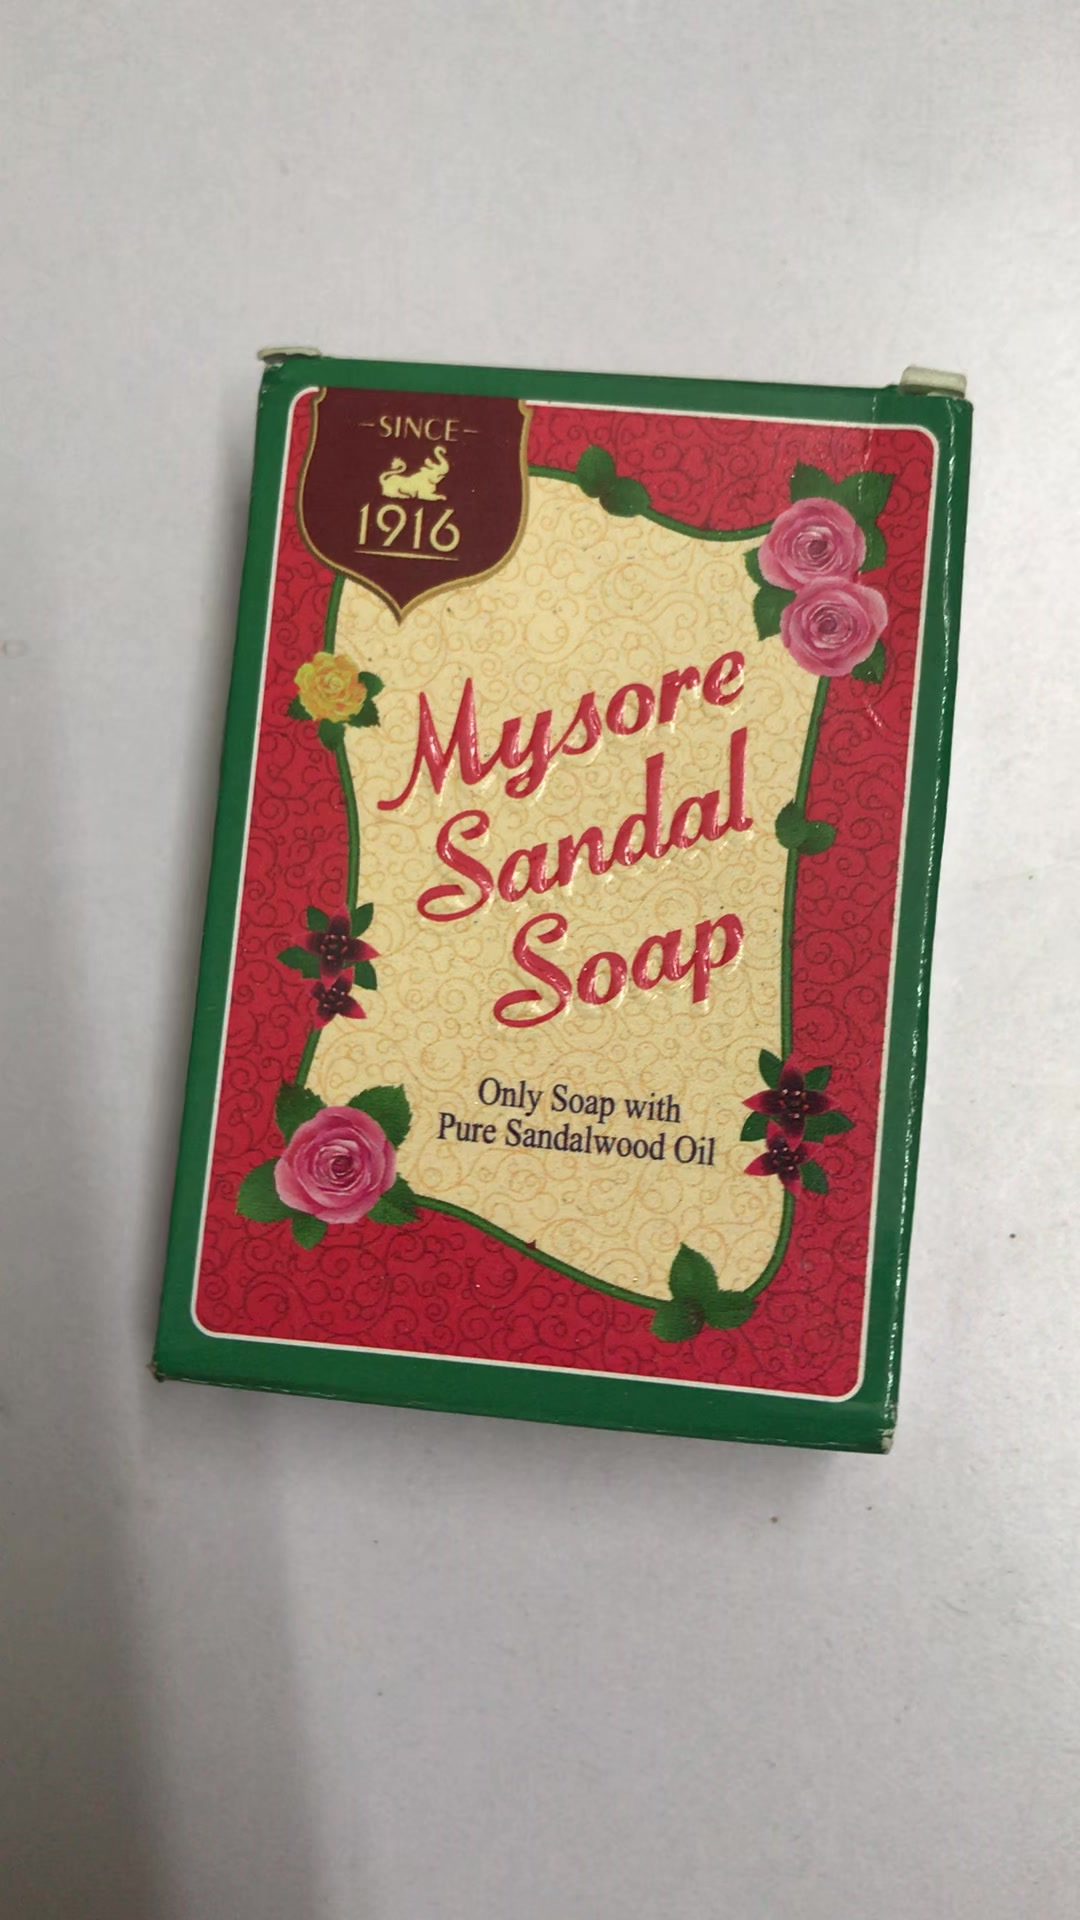mysore sandal soap: (149, 353, 976, 1458)
